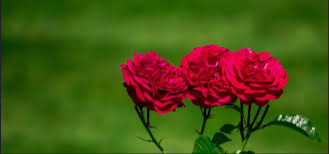RedRose: (123, 53, 184, 114), (182, 46, 240, 106), (222, 49, 284, 102)
